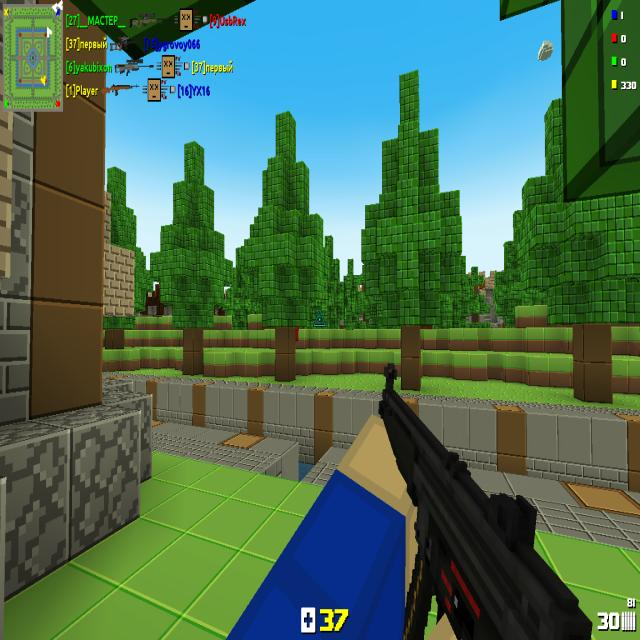enemy: (295, 327, 299, 342)
